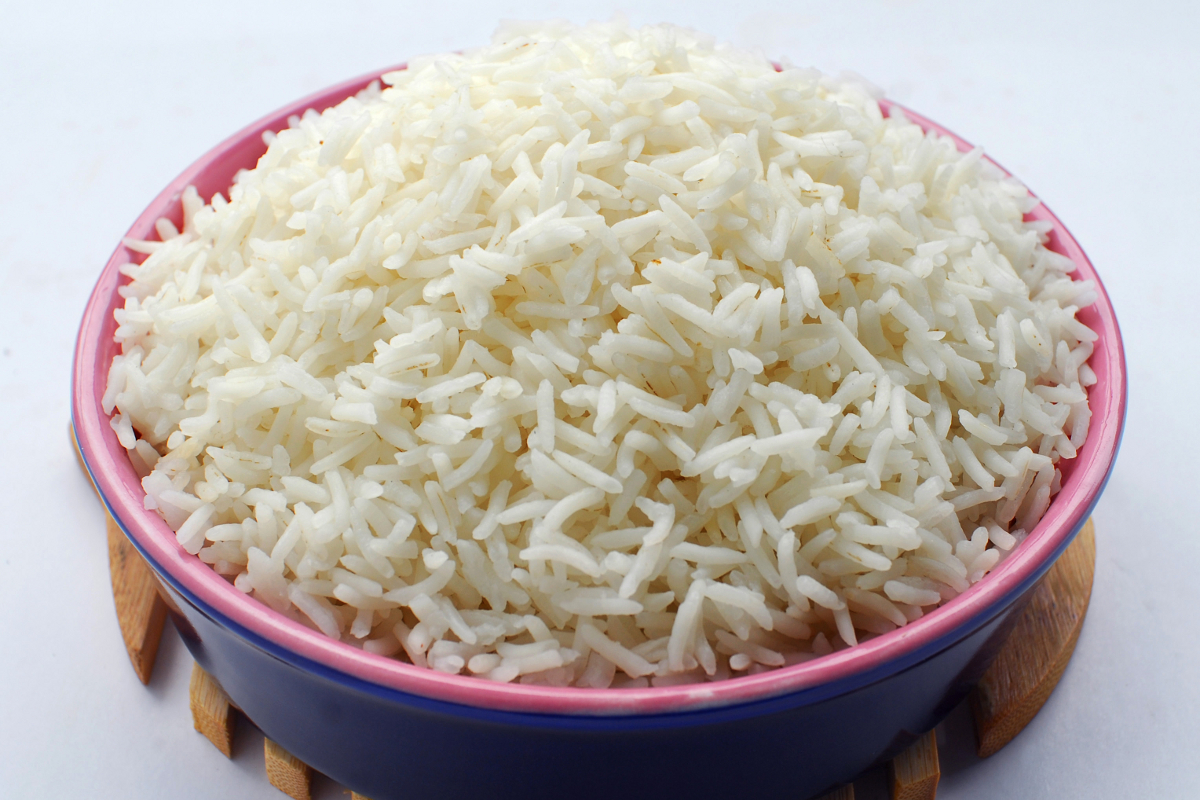plain rice: (165, 53, 1028, 620)
